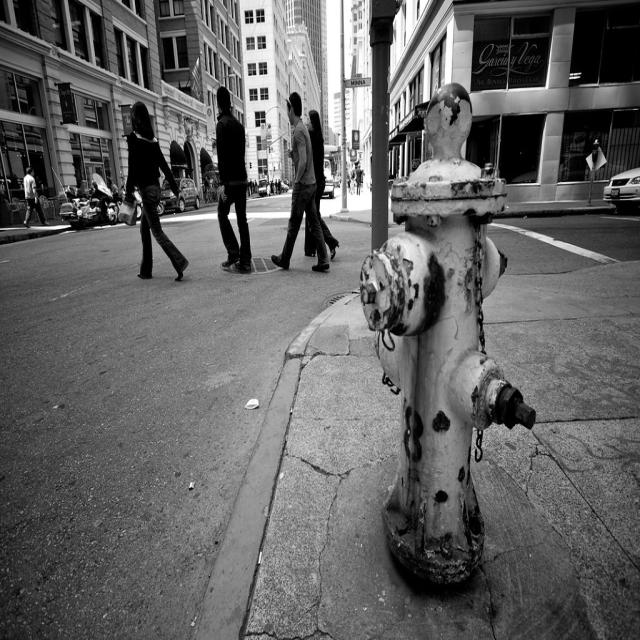fire_hydrant: (324, 62, 586, 618)
